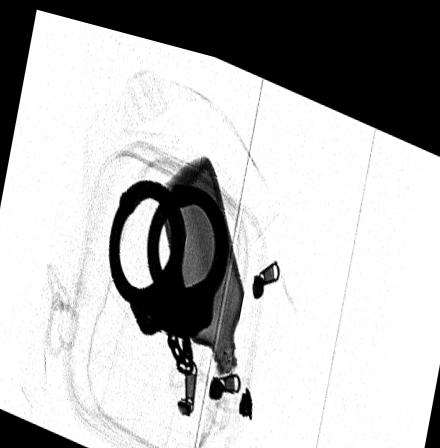HandCuffs: (107, 172, 228, 365)
